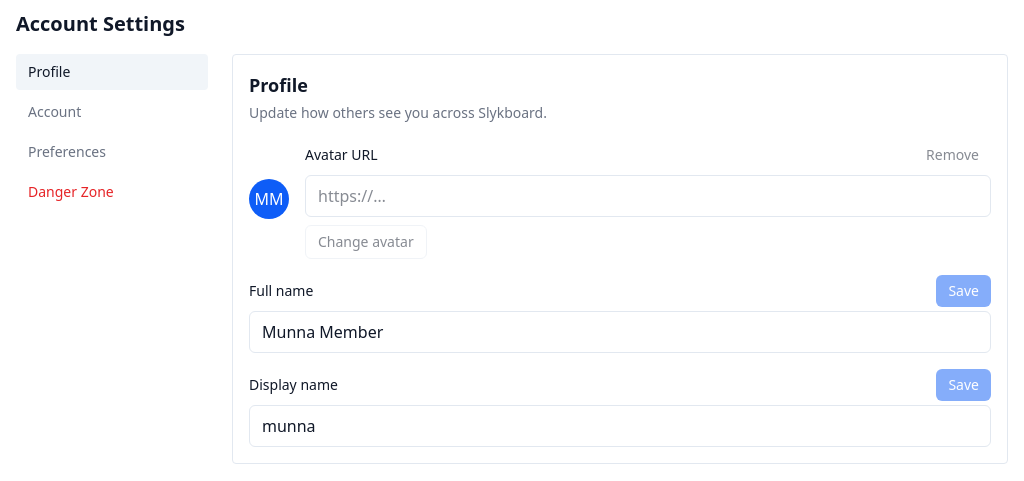
Test: AccountSettingsPage › disables Save until the full-name draft changes
Replace the text in the field labelled "Full name" with "Munna Renamed" at (620, 332), box [249,311,991,353]
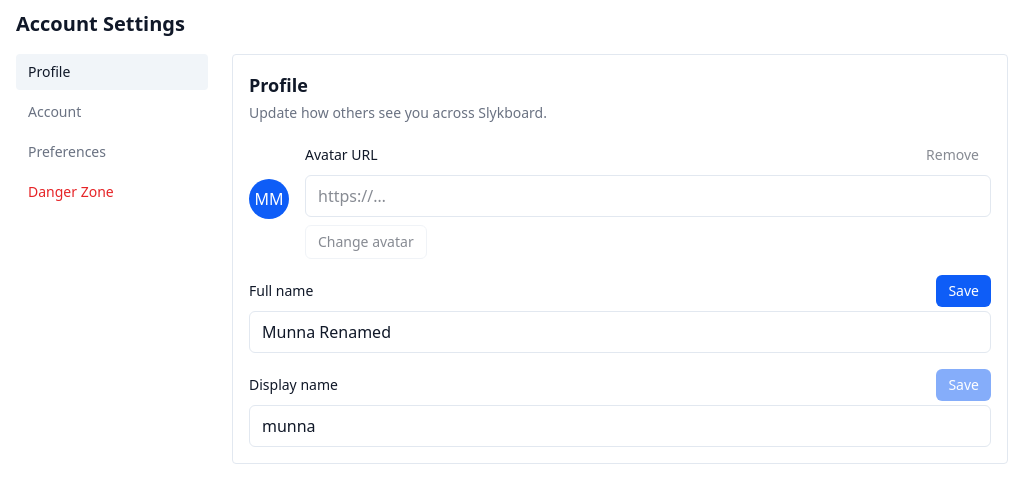
Expected: the button "Save" in the row of "Display name" is disabled, [936,369,991,401]
Result: the button "Save" in the row of "Full name" is enabled at [936,275,991,307]
